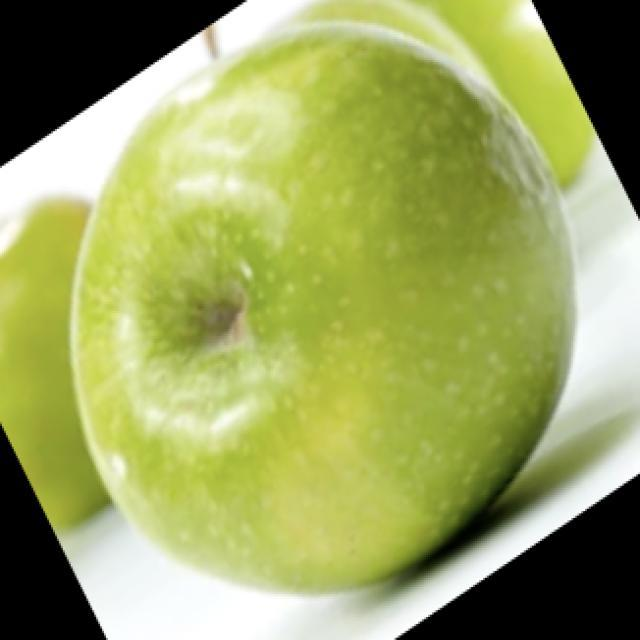Apple: (67, 19, 579, 597), (389, 0, 595, 190), (0, 194, 112, 533)
